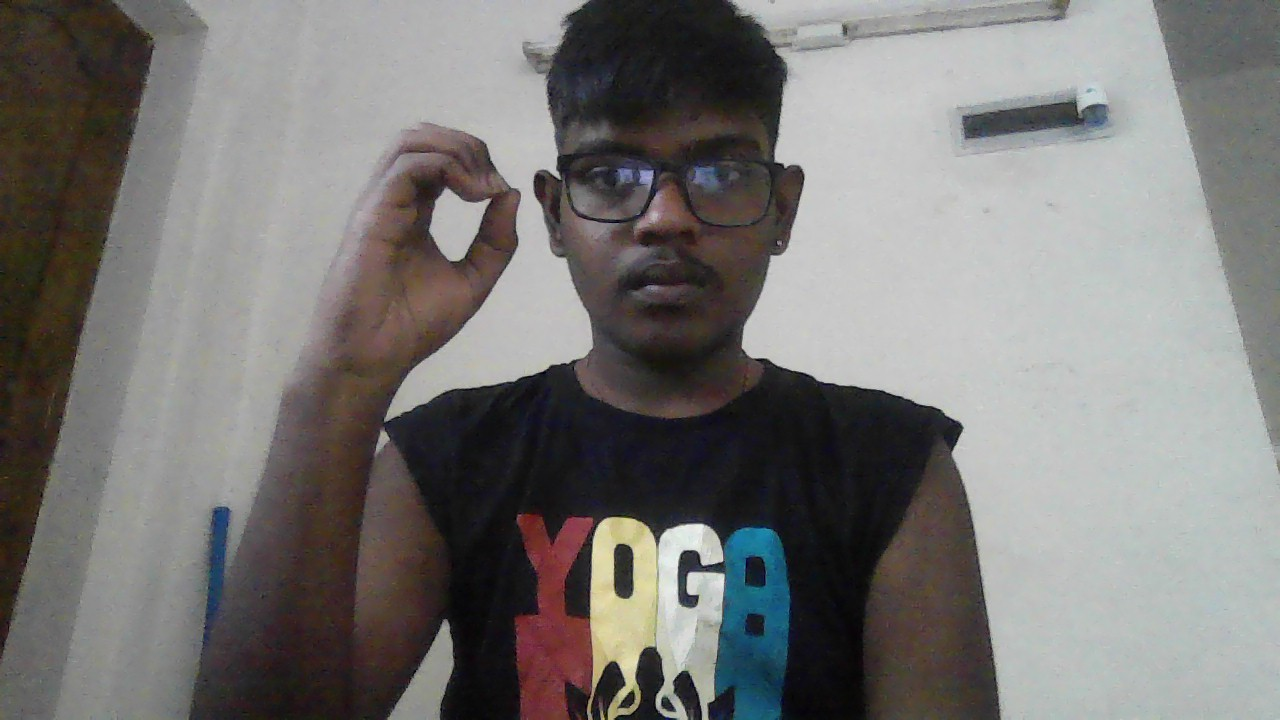O: (330, 121, 520, 371)
